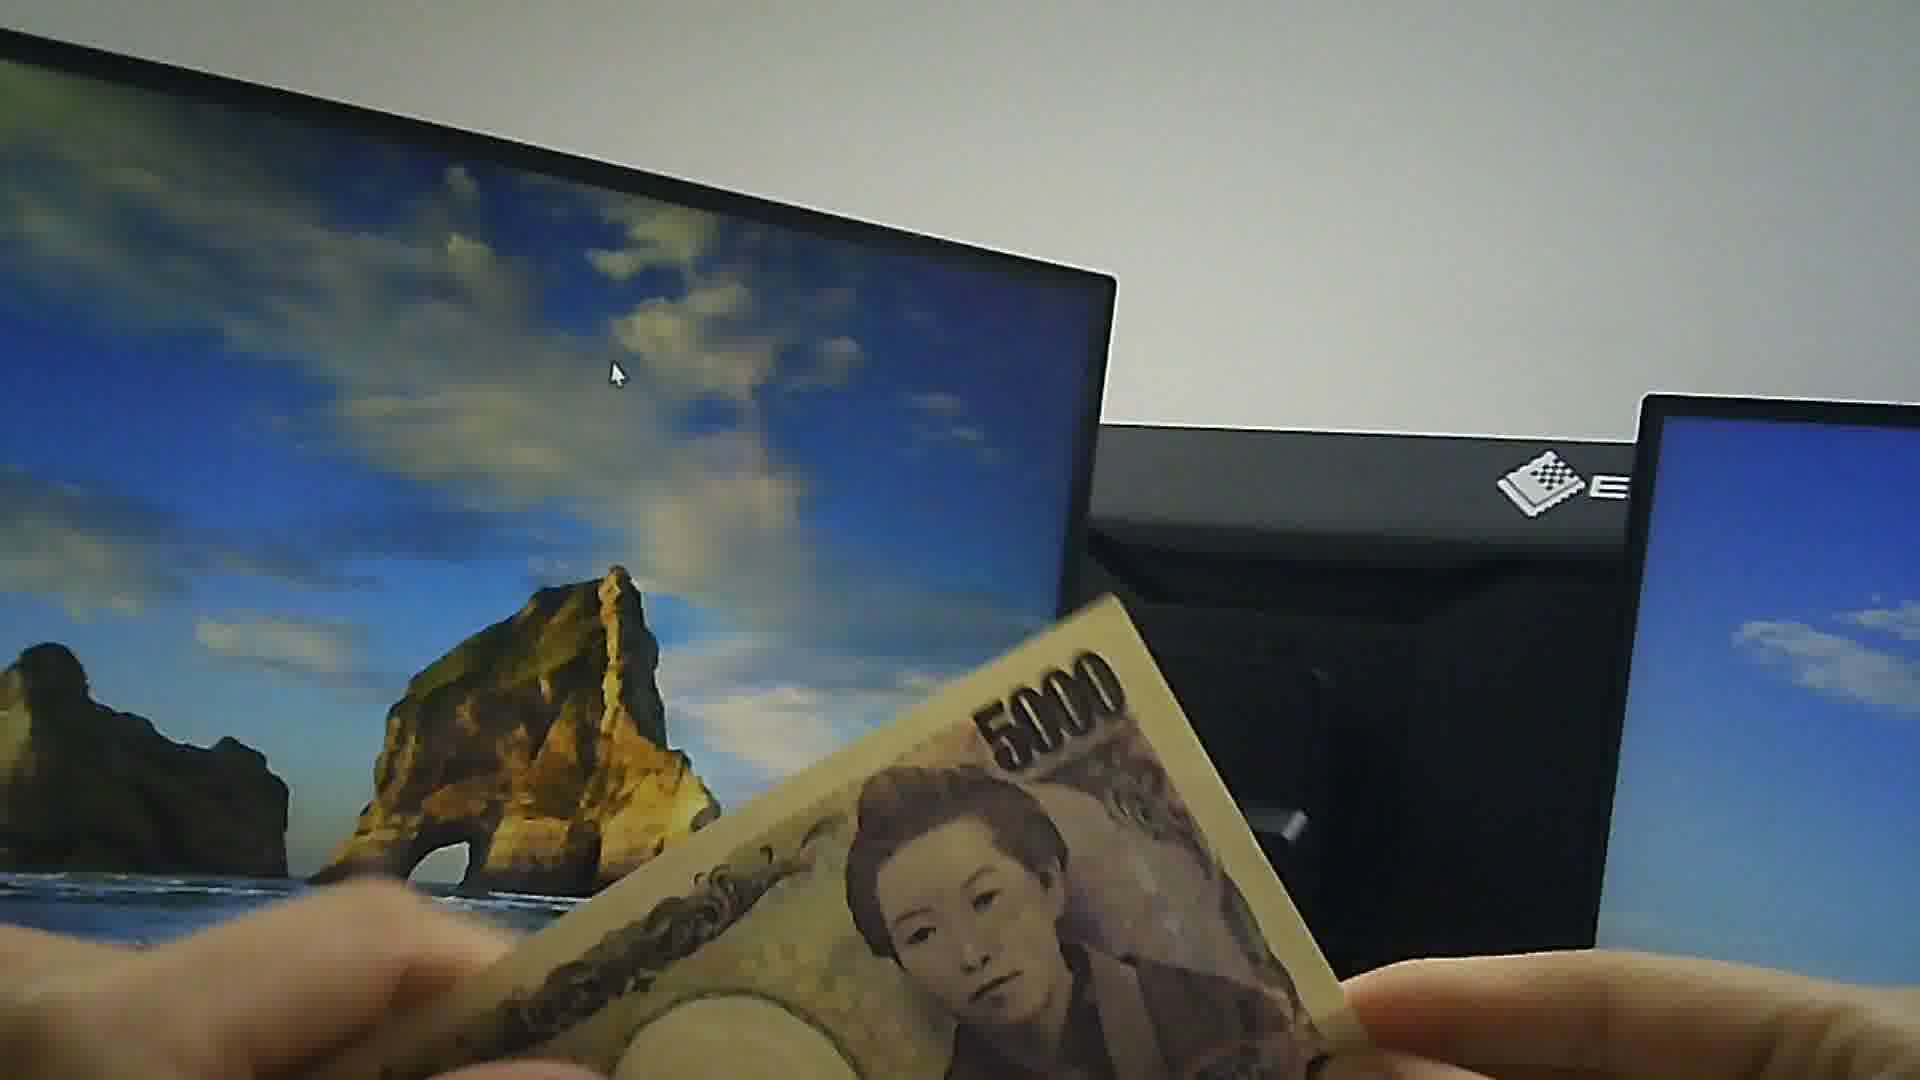5,000 Yen: (386, 611, 1371, 1079)
